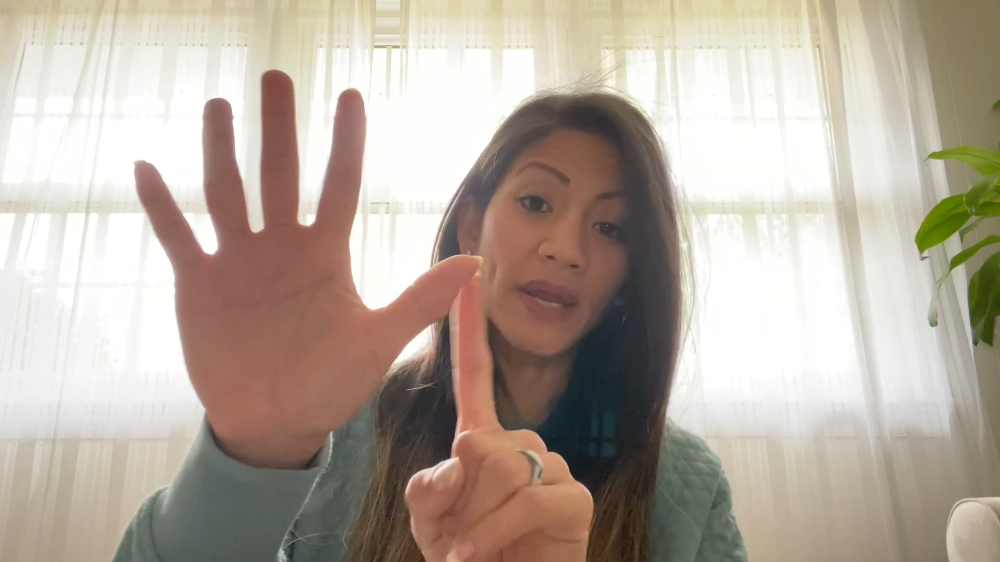hello: (132, 71, 480, 441)
